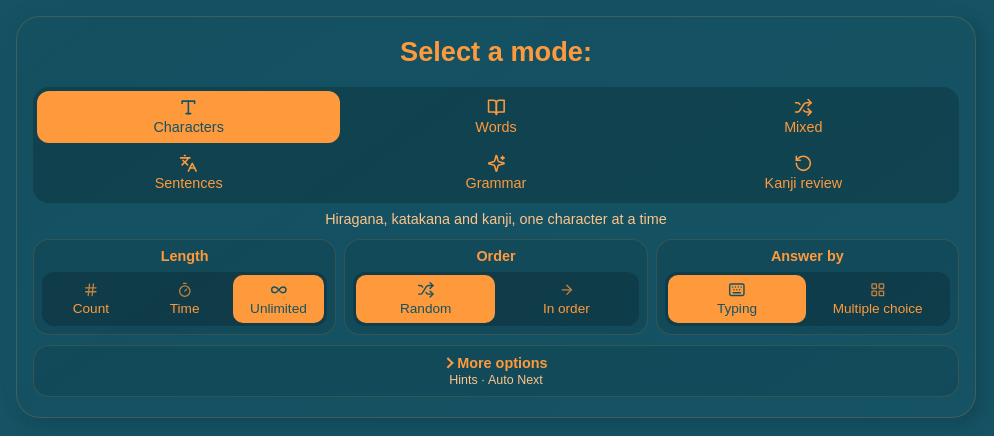
it: the kanji review is one of the practice options
Click the tab "Kanji review" at (803, 173), box [652,147,955,199]
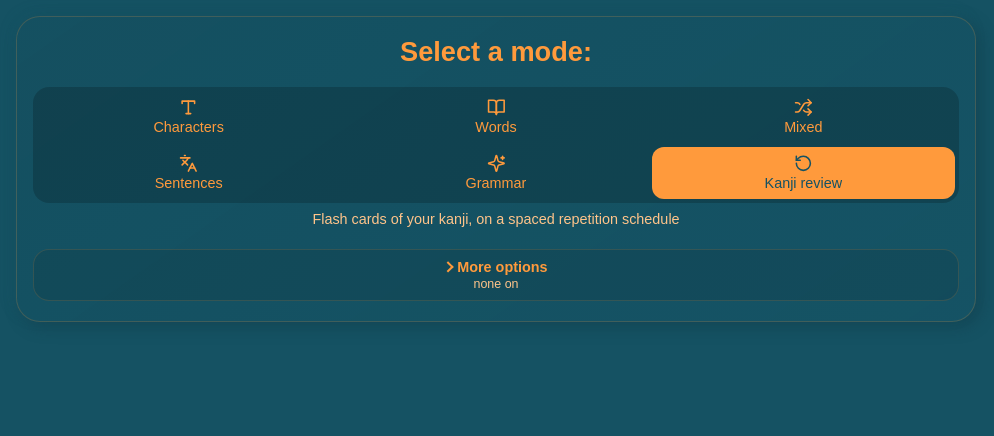
Now the text "Answer by" is gone
Now the text "Order" is gone
